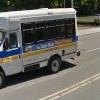Bus: (0, 6, 81, 73)
